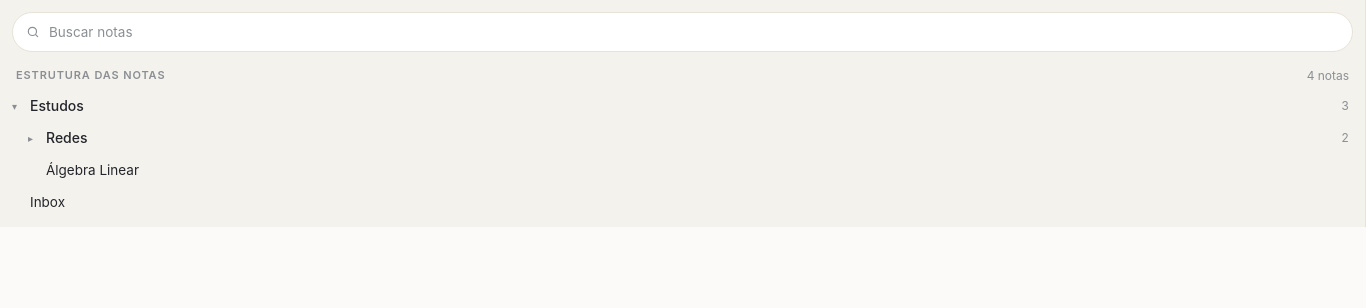
Test: BarraLateral — rastro do Bimo › a nota criada leva a etiqueta nova
Click the button "▸ Redes 2": (67, 138) [8,122,1357,154]
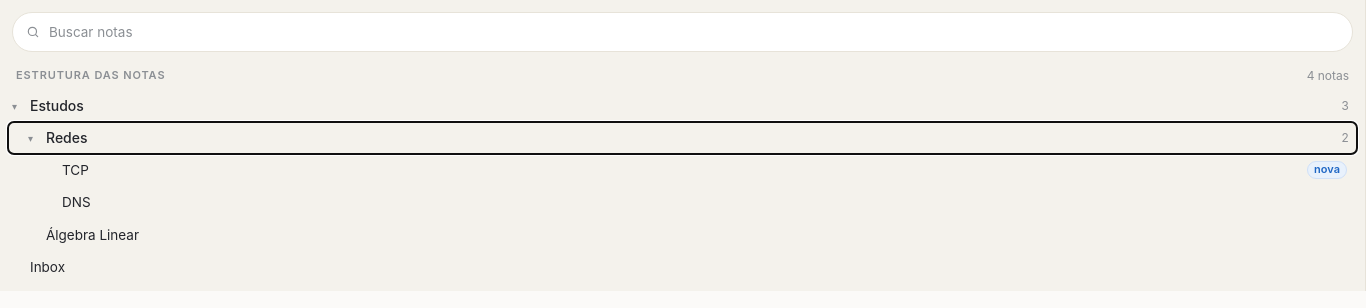
Now the button "TCP nova" is shown, box [8,154,1357,186]
